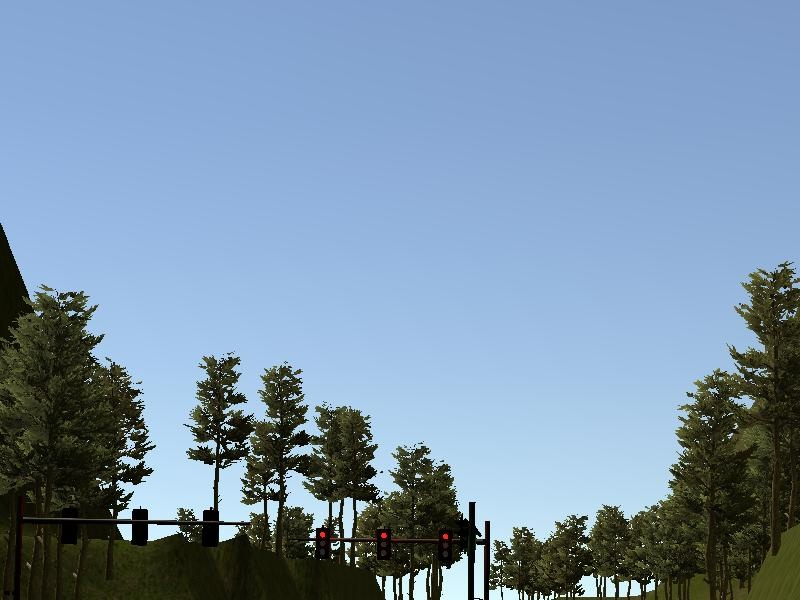Red: (437, 529, 453, 562), (376, 530, 391, 559), (316, 528, 329, 559)
